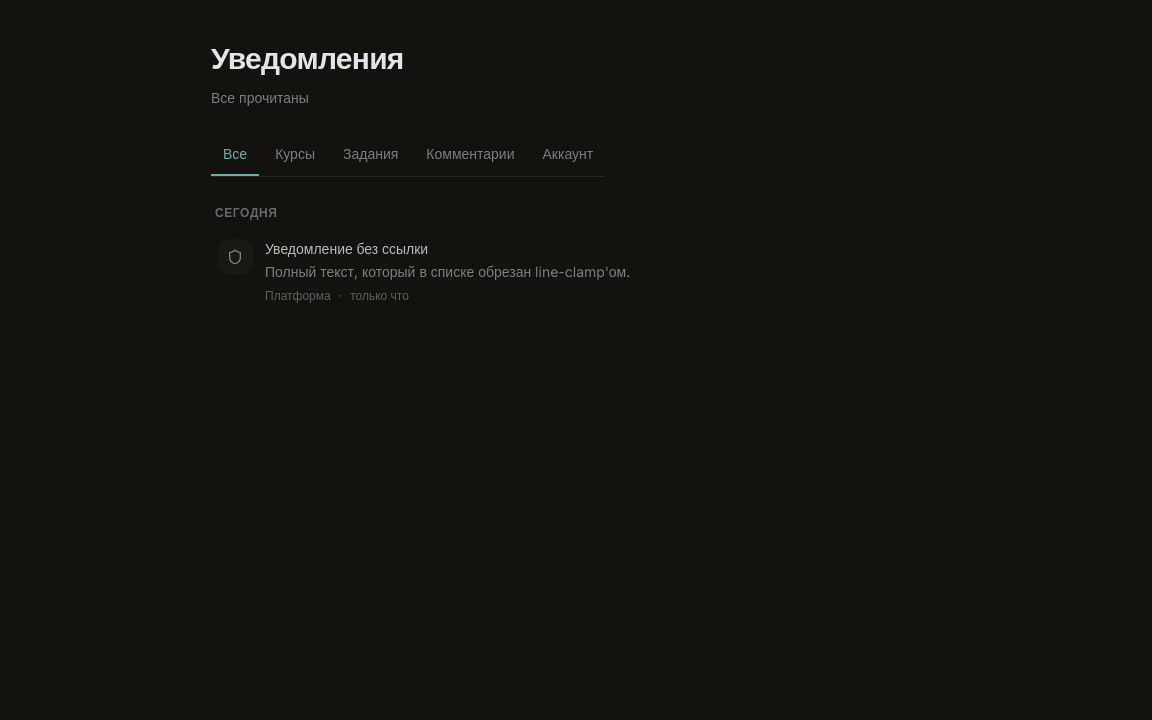
Test: NotificationsCenter (страница /notifications) › клик по уведомлению без targetUrl открывает модалку с полным текстом, без навигации (#708)
Click the text "Уведомление без ссылки": (347, 248) [265,240,428,257]
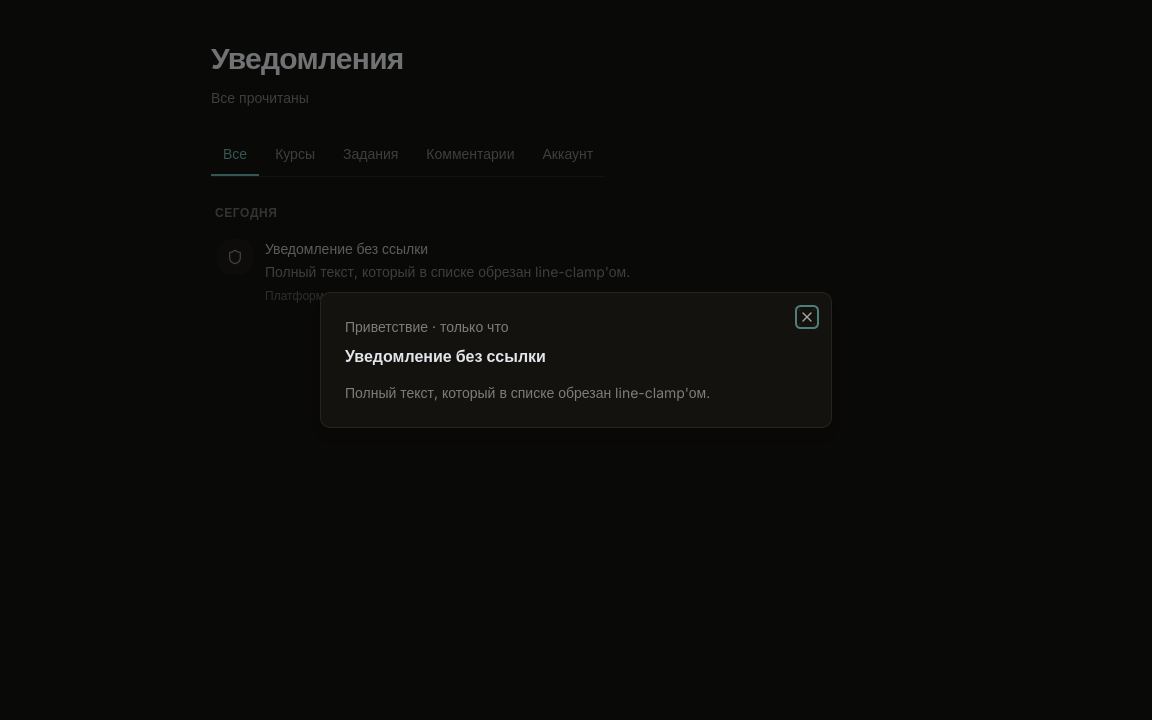
Expected: the text "Полный текст, который в списке обрезан line-clamp'ом." is shown 2 times, [265,263,630,280]; [345,384,710,401]
Now the dialog is shown, box [320,292,832,428]
